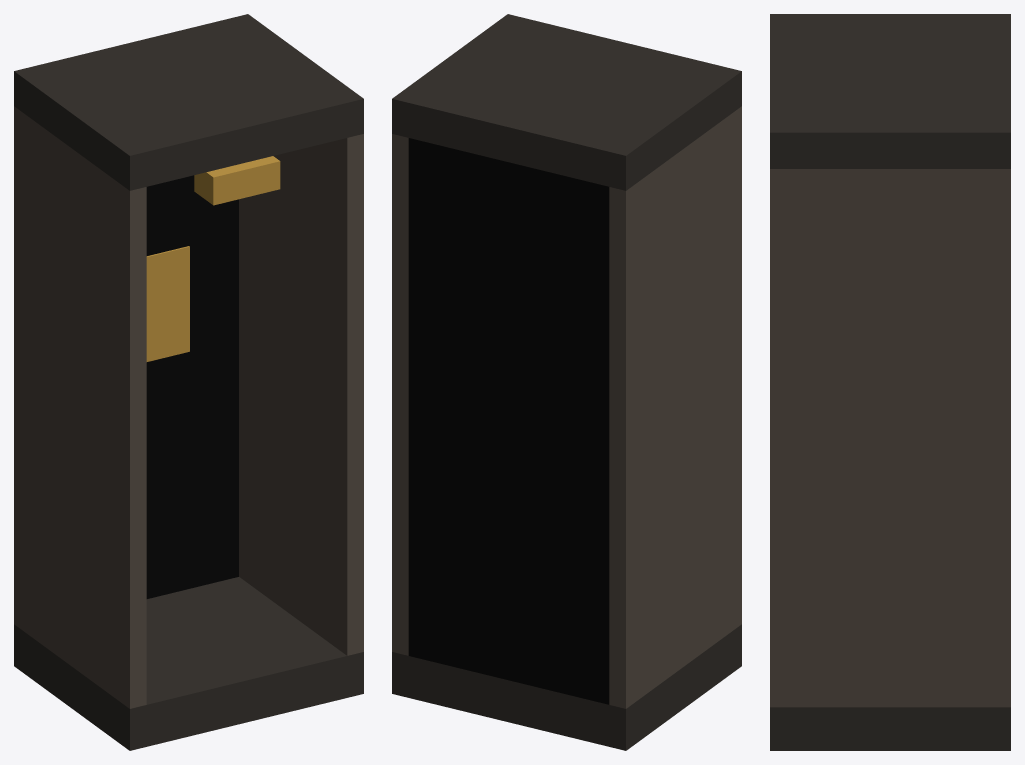
The model's file is work_droid_charger.glb.
The picture shows the model from 3 angles, left to right: view 1: azimuth 30°, elevation 25°; view 2: azimuth 150°, elevation 25°; view 3: azimuth 270°, elevation 25°; orthographic projection. The views are drawn at different scales.
Parts seen in each view (by area): view 1: sw5e_int_work_droid_charger; view 2: sw5e_int_work_droid_charger; view 3: sw5e_int_work_droid_charger.
Part boxes in pixels (x1,y1,x2,y2): sw5e_int_work_droid_charger: [14, 14, 363, 750]; sw5e_int_work_droid_charger: [392, 14, 741, 750]; sw5e_int_work_droid_charger: [770, 14, 1010, 750].
Size of the model in its own units: 0.7 by 1.7 by 0.6.
